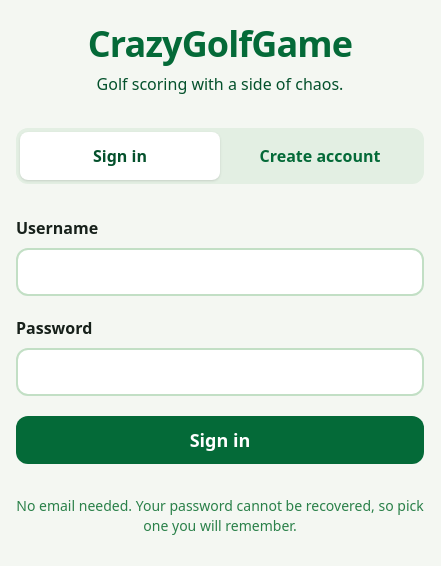
Test case: SignInScreen › shows the password length hint only when creating an account
Expected: the text "at least 6 characters" is not shown
Click the tab "Create account" at (320, 156), box top-left (220, 132), bottom-right (420, 180)
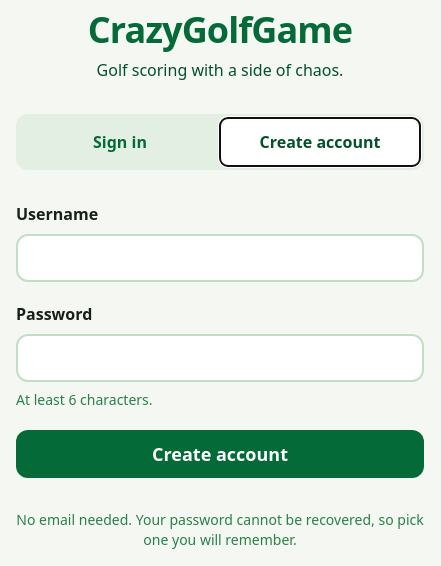
Now the text "At least 6 characters." is shown, box top-left (16, 390), bottom-right (153, 409)
